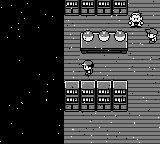main: (81, 60, 94, 76)
no-caminable: (0, 0, 64, 144), (65, 81, 126, 112), (81, 32, 128, 54), (65, 0, 127, 15)
npc: (128, 13, 144, 28), (145, 29, 158, 44)
poke-ball: (114, 30, 126, 42), (98, 30, 110, 42), (82, 30, 94, 41)
